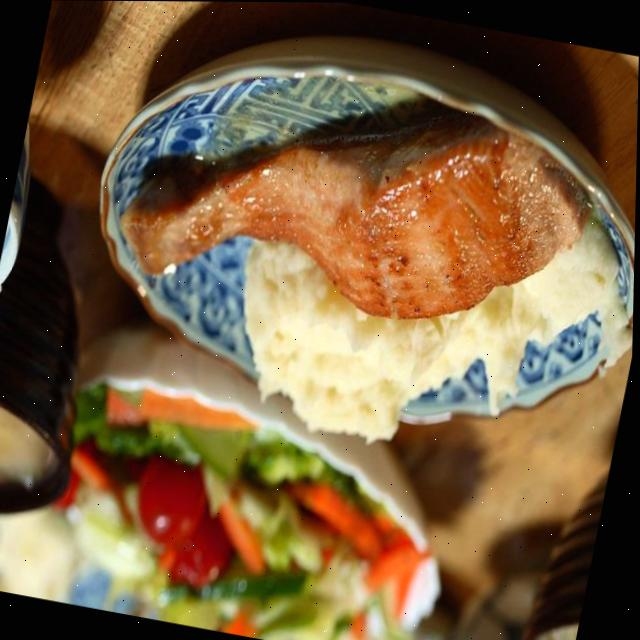熟制海鲜: (101, 40, 615, 388)
